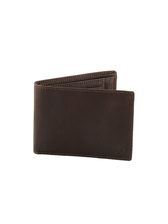other: (26, 75, 140, 160)
